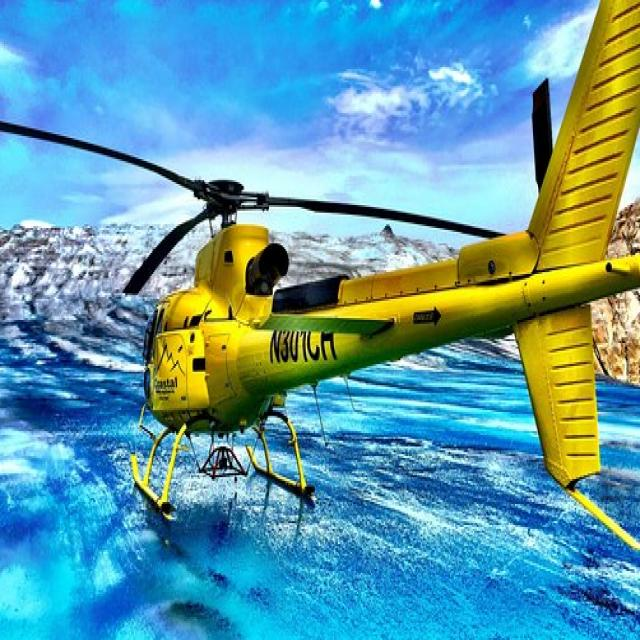helicopter: (15, 1, 640, 555)
